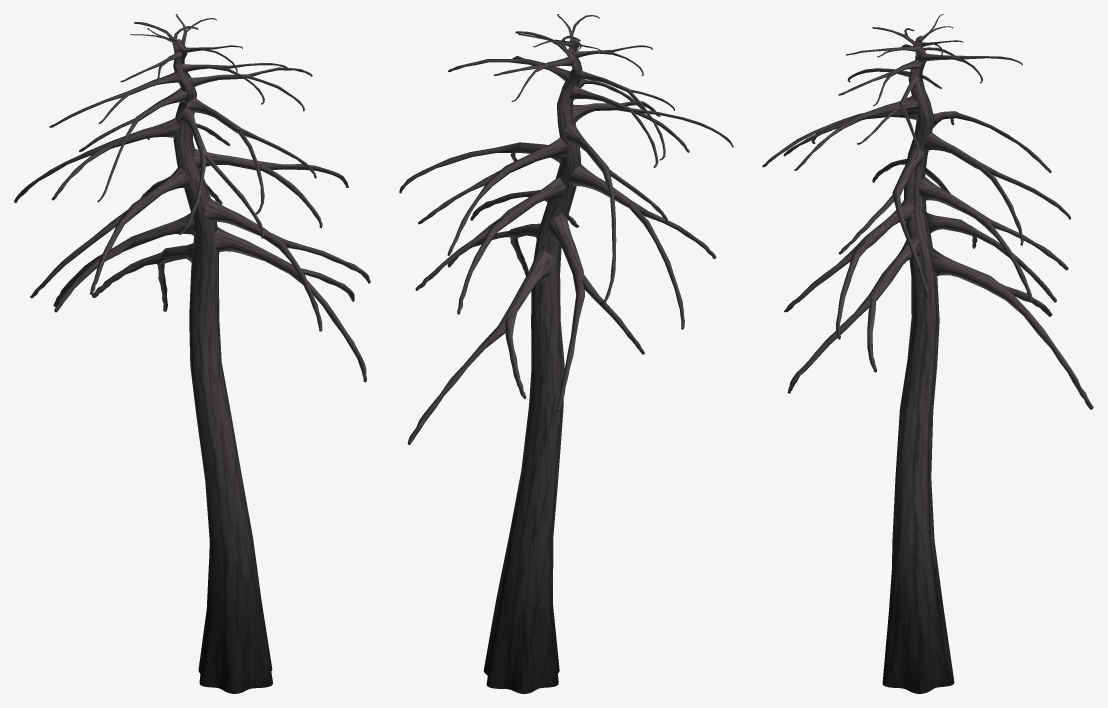
File: DeadTree_3.gltf
3 renders of one model, left to right at view 1: azimuth 30°, elevation 25°; view 2: azimuth 150°, elevation 25°; view 3: azimuth 270°, elevation 25°, orthographic. The views are drawn at different scales.
Parts seen in each view (by area): view 1: DeadTree_3; view 2: DeadTree_3; view 3: DeadTree_3.
Part boxes in pixels (x1,y1,x2,y2): DeadTree_3: (14,14,370,693); DeadTree_3: (399,14,733,693); DeadTree_3: (762,14,1093,693).
Size of the model in its own units: 6.39 by 13.28 by 6.43.
Materials: 1 (1 with a texture image).
